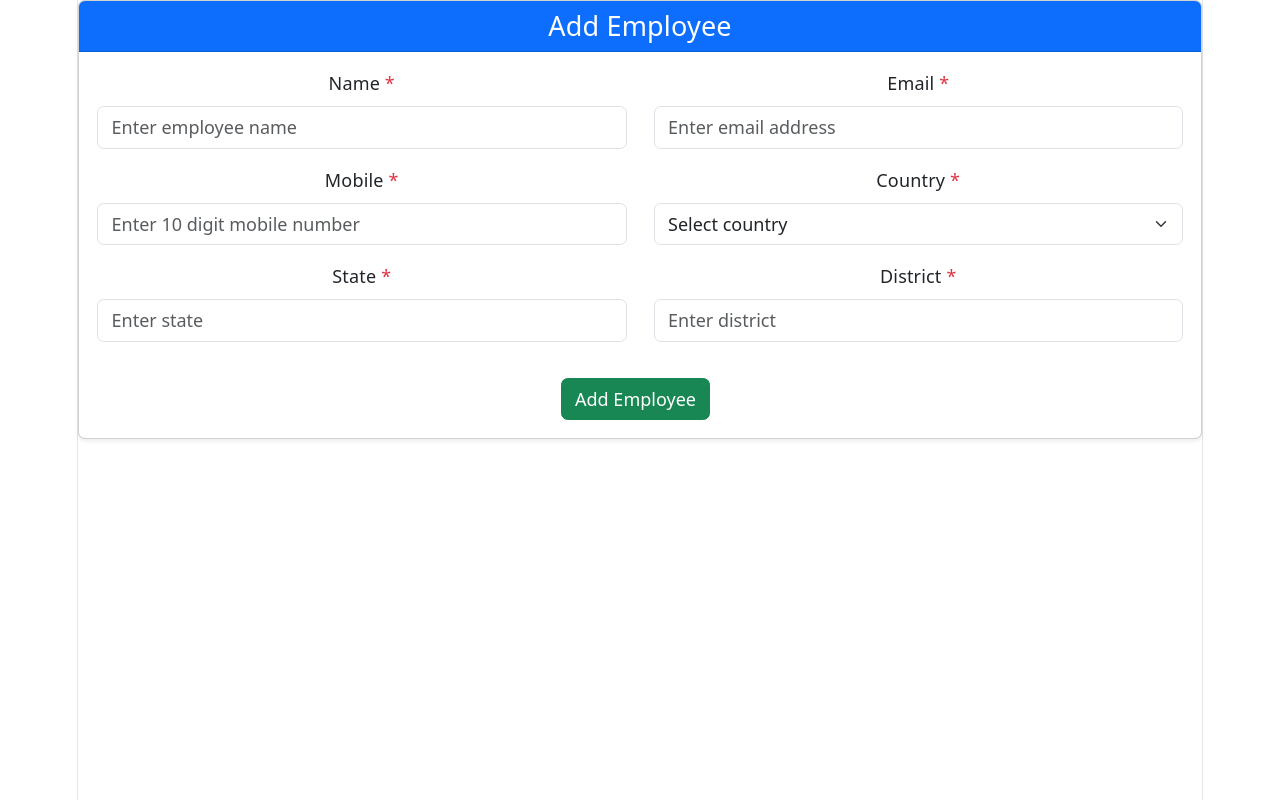
Scenario: EmployeeForm › shows validation errors when form is empty
Click the button "Add Employee" at (635, 399), box [560,378,710,420]
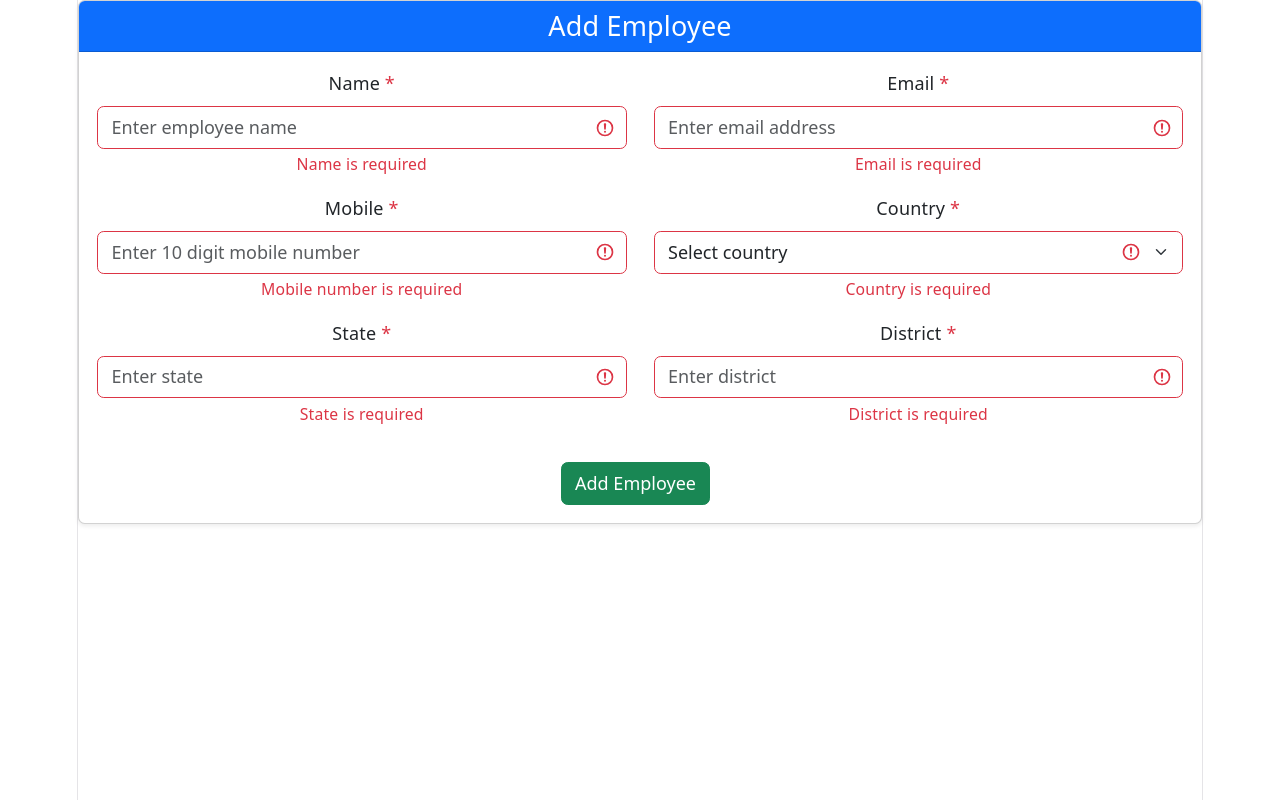
expect the text "Name is required" is shown: met, box [296,153,427,175]
expect the text "Email is required" is shown: met, box [855,153,982,175]
expect the text "Mobile number is required" is shown: met, box [261,278,462,300]
